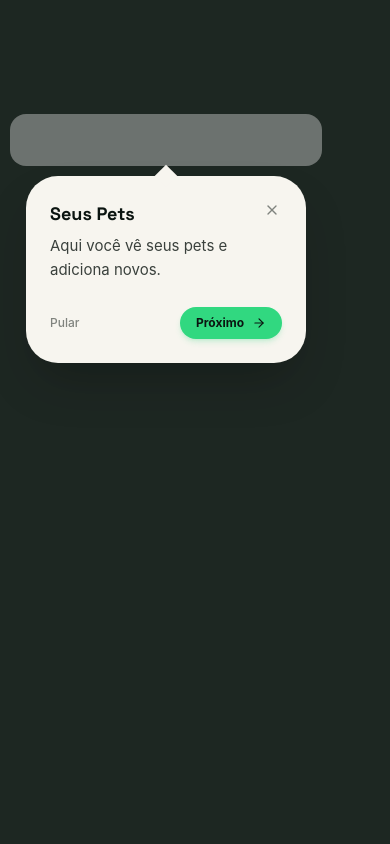
Test case: GuidedTour — comportamento no iPhone (390x844) › "Pedir Passeio" fica acima da navegação inferior
The width and height of the screenshot is (390, 844).
Click the button "Próximo". click: (231, 323)
box: [180,307,282,339]
Wait 64 ms
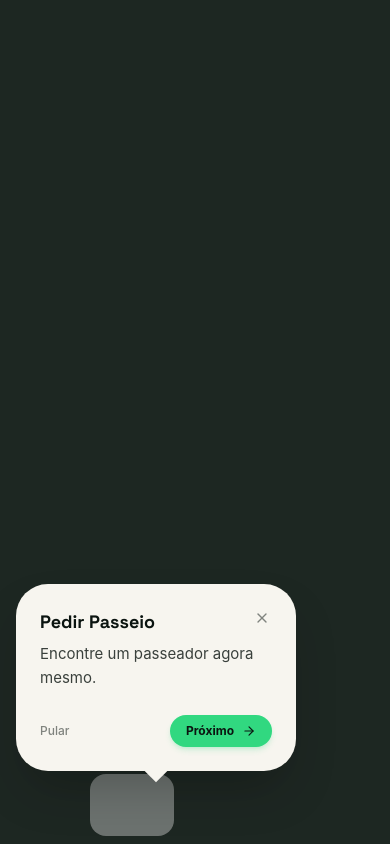
Check: the heading "Pedir Passeio" is shown, box [40,608,155,636]
